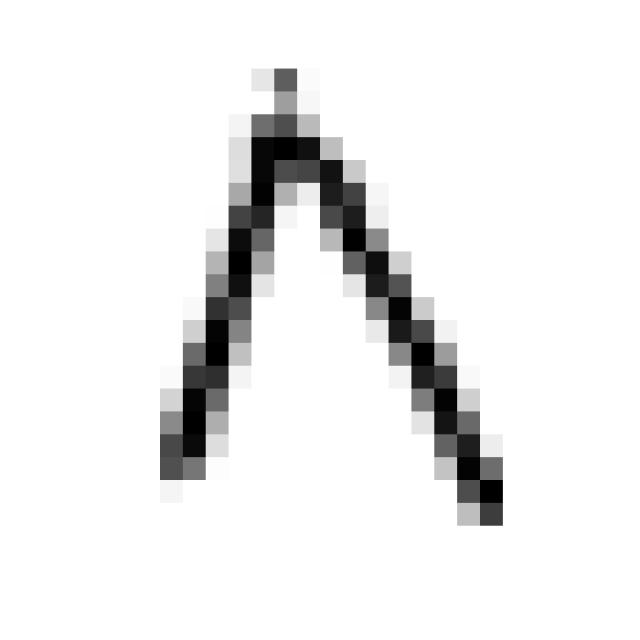8 -eight-: (144, 46, 524, 550)
